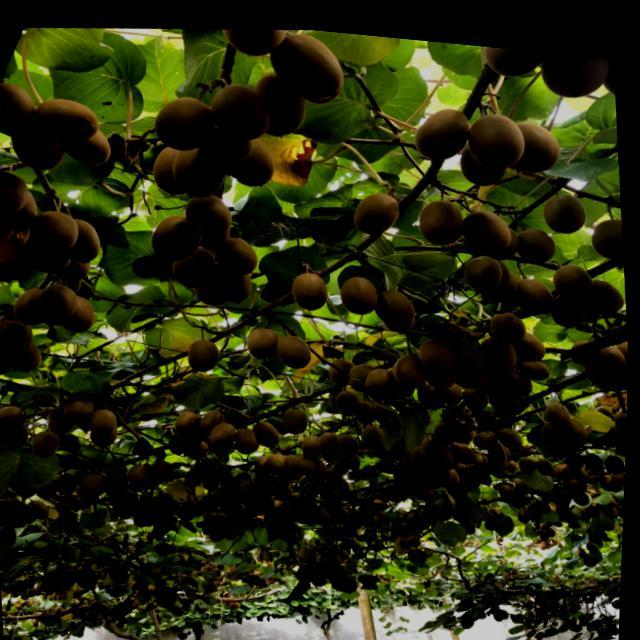kiwi: (265, 21, 347, 100), (251, 61, 313, 137), (170, 125, 232, 200), (151, 87, 221, 151), (210, 74, 275, 141), (195, 100, 257, 168), (467, 100, 529, 165), (7, 110, 69, 174), (411, 95, 474, 157), (537, 42, 612, 94), (35, 91, 103, 146), (223, 122, 280, 186), (58, 108, 115, 169), (151, 133, 205, 196), (151, 208, 209, 263), (501, 107, 555, 166), (457, 124, 512, 181), (53, 212, 105, 266), (460, 197, 515, 248), (184, 185, 236, 237), (25, 224, 76, 277), (418, 188, 468, 242), (480, 37, 555, 73), (207, 249, 257, 302), (30, 205, 82, 255), (352, 181, 403, 231), (1, 76, 40, 141), (172, 238, 220, 289), (1, 177, 42, 235), (222, 20, 288, 56), (214, 229, 262, 275), (543, 180, 590, 225), (509, 264, 558, 307), (55, 289, 99, 334), (374, 279, 420, 322), (52, 238, 95, 283), (13, 284, 56, 328), (340, 266, 382, 311), (581, 265, 628, 305), (38, 280, 82, 322), (464, 244, 507, 286), (554, 250, 597, 291), (517, 214, 559, 255), (293, 263, 332, 307), (1, 166, 33, 219), (451, 323, 490, 366), (591, 204, 627, 250), (552, 280, 593, 320), (483, 213, 523, 253), (276, 327, 316, 367), (420, 326, 460, 366), (481, 323, 522, 362), (8, 335, 47, 375), (394, 343, 433, 382), (491, 298, 530, 336), (483, 257, 521, 296), (1, 316, 34, 360), (193, 266, 231, 304), (454, 345, 491, 383), (247, 320, 284, 357), (366, 357, 403, 394), (189, 333, 224, 371), (429, 345, 463, 384), (515, 318, 551, 354), (595, 325, 631, 360), (64, 392, 99, 426), (350, 354, 383, 387), (487, 342, 520, 374), (34, 427, 67, 459), (90, 405, 122, 437), (92, 414, 123, 447), (49, 403, 80, 434), (330, 350, 360, 381), (508, 358, 539, 388), (212, 417, 242, 448), (3, 420, 34, 450), (423, 371, 451, 403), (438, 368, 468, 397), (256, 414, 285, 444), (284, 400, 312, 431), (560, 405, 591, 433), (520, 347, 555, 371), (338, 381, 366, 411), (572, 326, 600, 356), (201, 403, 230, 431), (407, 393, 436, 421), (487, 426, 516, 454), (237, 422, 264, 452), (588, 349, 617, 376), (329, 378, 356, 406), (178, 405, 205, 433), (547, 388, 574, 416), (499, 415, 528, 441), (1, 403, 28, 430), (452, 433, 481, 458), (467, 377, 494, 403), (130, 460, 157, 486), (82, 470, 109, 496), (1, 342, 20, 378), (56, 470, 82, 496), (543, 408, 569, 434), (188, 433, 215, 458), (561, 417, 588, 442), (358, 391, 382, 419), (436, 411, 459, 439), (364, 416, 389, 441), (155, 456, 180, 481), (18, 474, 43, 499), (338, 426, 364, 450), (269, 444, 293, 470), (401, 440, 425, 466), (592, 347, 619, 370), (39, 472, 61, 500), (298, 446, 321, 472), (108, 471, 131, 497), (376, 393, 399, 419), (476, 419, 503, 441), (422, 433, 445, 458), (395, 454, 420, 477), (303, 426, 325, 452), (32, 498, 56, 521), (490, 442, 514, 465), (171, 428, 193, 453), (275, 473, 297, 498), (437, 435, 458, 461), (411, 434, 432, 460), (259, 467, 281, 491), (322, 422, 343, 447), (122, 485, 144, 508), (607, 441, 629, 464), (586, 439, 608, 461), (142, 489, 163, 511), (252, 490, 273, 512), (257, 449, 277, 472), (187, 464, 208, 485), (212, 507, 233, 528), (184, 493, 205, 514), (159, 487, 180, 508), (287, 448, 307, 470), (520, 443, 540, 465), (286, 497, 308, 517), (430, 454, 449, 477), (5, 525, 23, 549), (204, 467, 224, 488), (538, 446, 559, 466), (418, 472, 438, 493), (616, 399, 630, 428), (336, 449, 356, 469), (213, 484, 233, 504), (446, 457, 465, 478), (328, 459, 348, 478), (328, 500, 347, 520), (142, 503, 162, 522), (568, 439, 588, 458), (609, 461, 628, 481), (230, 512, 248, 533), (317, 500, 336, 519), (271, 493, 291, 511), (346, 446, 364, 465), (240, 473, 258, 492), (306, 474, 324, 493), (321, 474, 339, 493), (337, 469, 355, 488), (212, 519, 230, 538), (399, 469, 417, 488), (303, 498, 320, 518), (448, 487, 465, 506), (597, 392, 617, 408), (471, 454, 487, 474), (225, 476, 242, 494), (355, 503, 372, 521), (502, 473, 519, 491), (539, 487, 556, 505), (460, 479, 477, 497), (360, 499, 379, 515), (557, 451, 573, 470), (293, 485, 310, 502), (378, 501, 395, 518), (589, 456, 606, 473), (469, 463, 486, 480), (370, 504, 386, 522), (603, 461, 618, 480), (411, 501, 427, 518), (518, 467, 534, 484), (192, 458, 210, 473), (240, 465, 258, 480), (161, 498, 179, 513), (403, 511, 418, 529), (531, 495, 546, 513), (351, 529, 367, 545), (434, 495, 450, 511), (574, 454, 590, 470), (328, 557, 343, 574), (423, 497, 437, 515), (521, 496, 535, 514), (568, 452, 586, 466), (285, 514, 301, 529), (613, 456, 628, 472), (486, 499, 500, 516), (576, 466, 591, 481), (411, 540, 425, 556), (341, 498, 354, 515), (479, 496, 492, 513), (333, 546, 347, 561), (562, 479, 576, 494), (544, 514, 559, 528), (271, 516, 284, 532), (610, 494, 624, 508), (339, 541, 354, 554), (376, 491, 392, 503), (338, 519, 351, 533), (403, 528, 416, 542), (412, 526, 425, 540), (576, 477, 590, 490), (608, 483, 620, 496), (555, 505, 568, 517), (591, 530, 603, 542), (587, 544, 598, 557), (590, 489, 600, 503), (619, 491, 627, 507), (580, 535, 590, 547), (544, 508, 554, 520), (544, 528, 552, 539)
